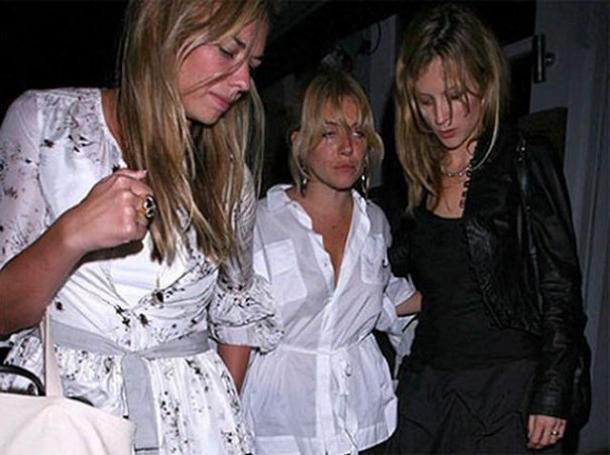Drunk: (179, 9, 261, 122), (306, 94, 366, 185), (411, 62, 477, 143)
